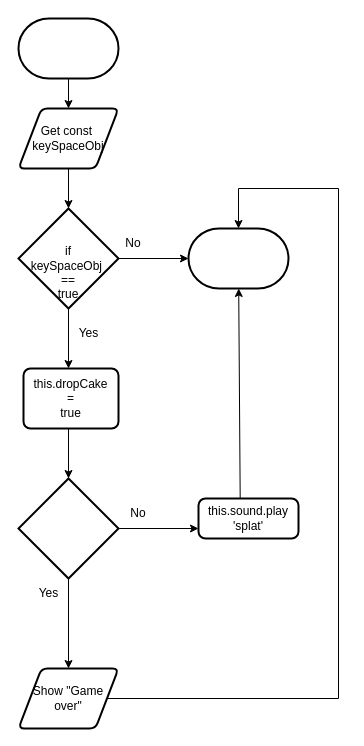
Image size: 364x746. Some labels were removed from this diagram. The shapes that lost their labels are listed below. From the top down, each one's centre as x and y in pixels, then its label:
the point at 68,48: Start
the point at 238,258: Stop
the point at 68,528: if cakePlatter != yvalue of cake
